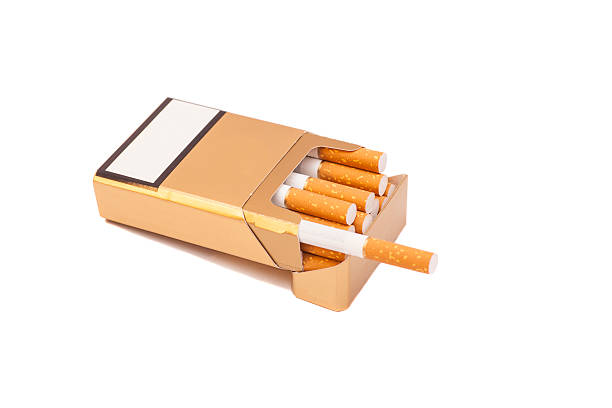cigarette: (89, 95, 440, 310), (295, 219, 439, 275), (281, 171, 376, 215), (292, 155, 389, 197), (271, 183, 357, 225), (307, 146, 388, 173)
